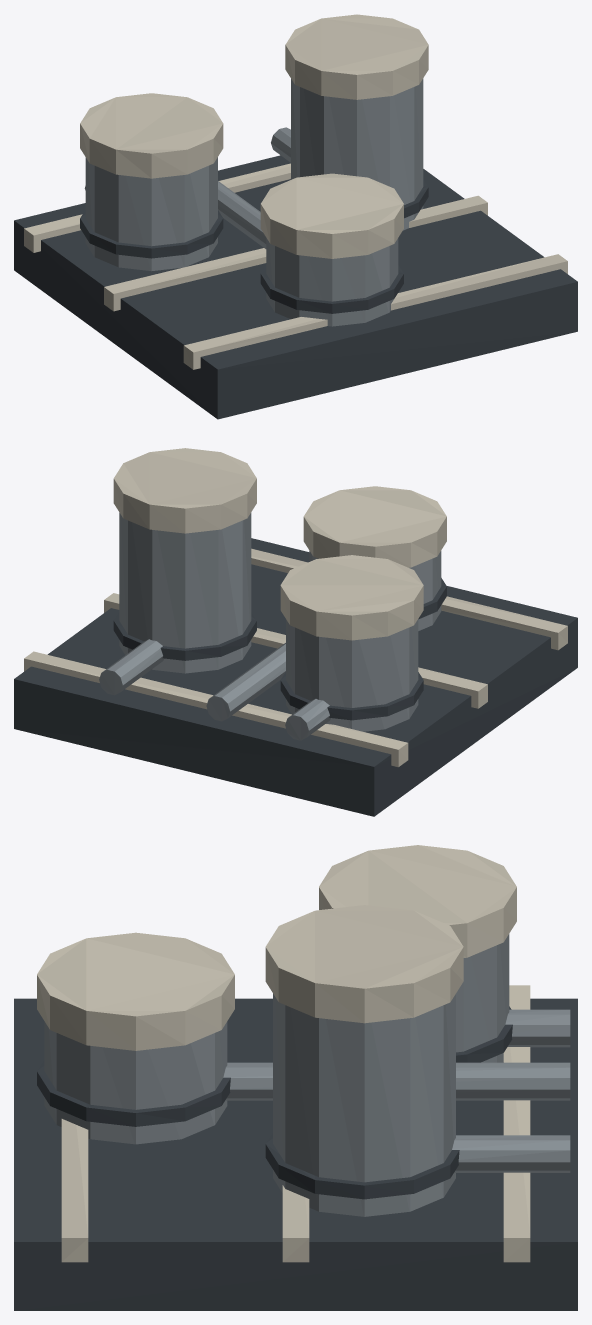
The model's file is receiver-condenser.glb.
3 views of the same model, one above another, from view 1: azimuth 30°, elevation 25°; view 2: azimuth 150°, elevation 25°; view 3: azimuth 270°, elevation 25° (orthographic). The views are drawn at different scales.
Visible parts, largest first — view 1: receiver-condenser__graphite, receiver-condenser__ceramic, receiver-condenser__metal; view 2: receiver-condenser__graphite, receiver-condenser__ceramic, receiver-condenser__metal; view 3: receiver-condenser__graphite, receiver-condenser__metal, receiver-condenser__ceramic.
Boxes of the visible parts, x1,y1,x2,y2 form: receiver-condenser__graphite: [14, 155, 577, 419]; receiver-condenser__ceramic: [24, 14, 567, 369]; receiver-condenser__metal: [84, 78, 423, 326]; receiver-condenser__graphite: [14, 538, 577, 816]; receiver-condenser__ceramic: [24, 448, 567, 767]; receiver-condenser__metal: [99, 512, 441, 740]; receiver-condenser__graphite: [14, 998, 577, 1310]; receiver-condenser__metal: [44, 934, 570, 1216]; receiver-condenser__ceramic: [37, 845, 530, 1262].
Size of the model in its own units: 157 by 87 by 148.
